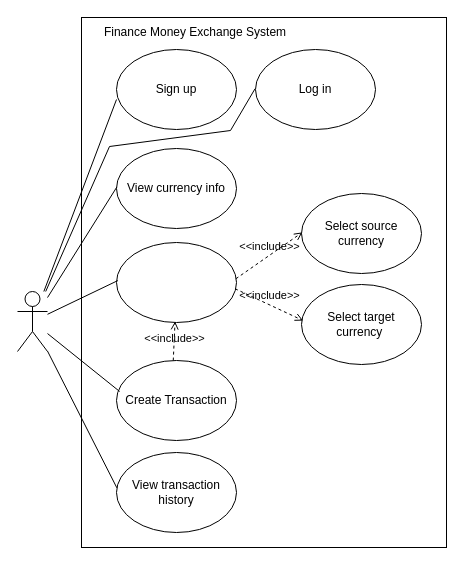
Image size: 464x565. Some labels were removed from this diagram. Each missing label, with the centre of its shape:
"User" belongs at [32,321].
"View exchange rate" belongs at [176,282].
